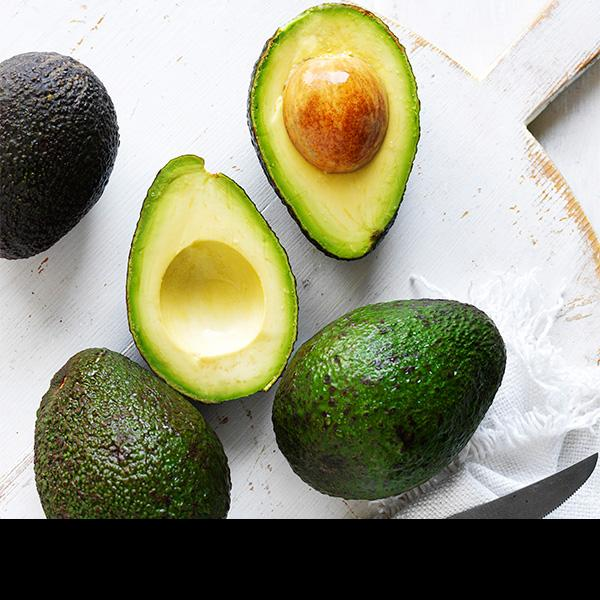almost: (33, 346, 231, 518)
ripe: (1, 50, 120, 260)
unripe: (272, 299, 507, 500)
